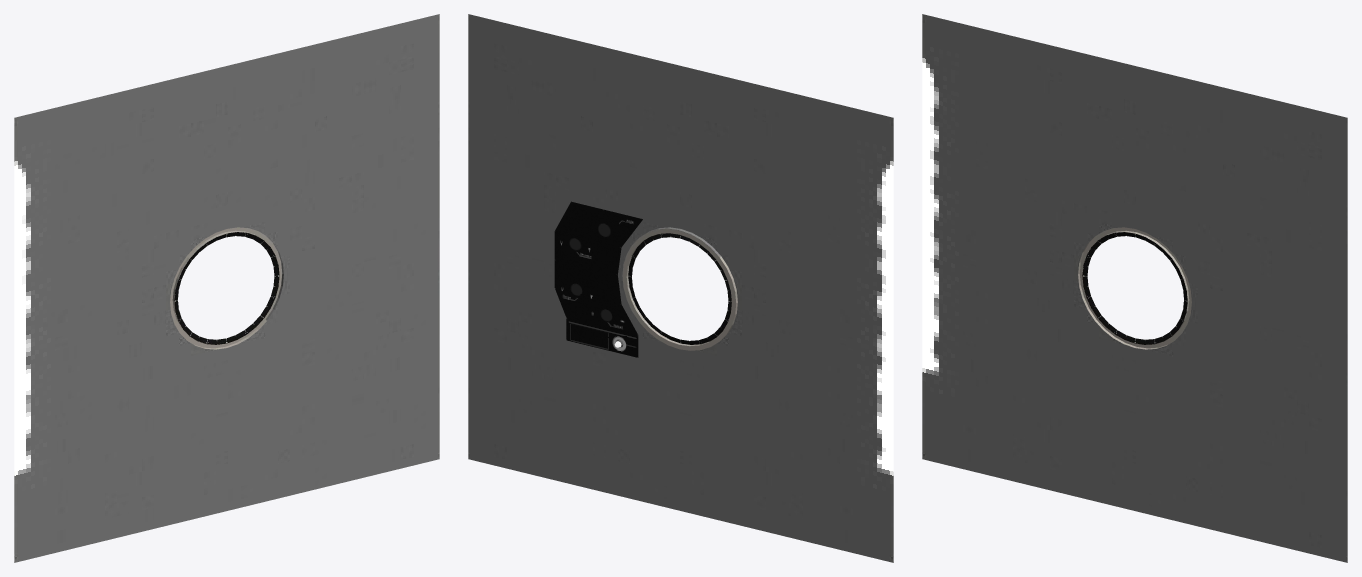
The model's file is SonarViewerPanel.glb.
3 views of the same model, side by side, from view 1: azimuth 30°, elevation 25°; view 2: azimuth 150°, elevation 25°; view 3: azimuth 330°, elevation 25° (orthographic).
Parts seen in each view (by area): view 1: SonarScreenPanel; view 2: SonarScreenPanel, ControlsPanel; view 3: SonarScreenPanel.
Part boxes in pixels (x1,y1,x2,y2): SonarScreenPanel: [14, 14, 439, 562]; SonarScreenPanel: [468, 14, 893, 562]; ControlsPanel: [554, 201, 642, 357]; SonarScreenPanel: [922, 14, 1347, 562].
Size of the model in its own units: 8.39 by 8.39 by 0.1616.
Materials: 1 (1 with a texture image).
